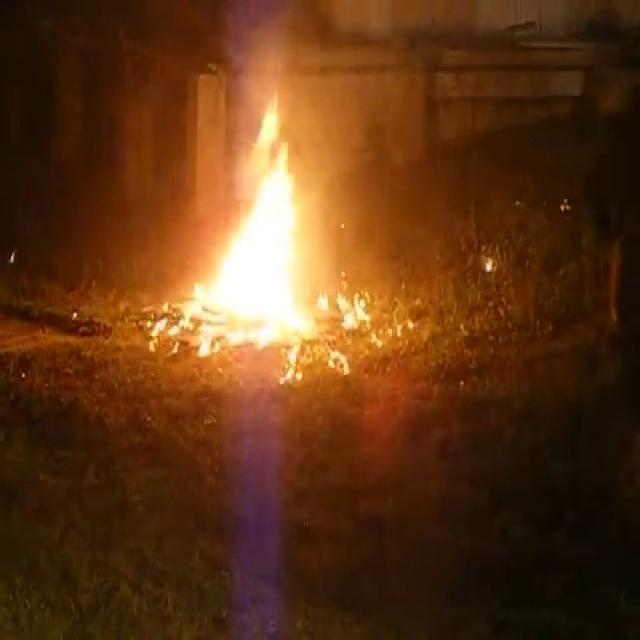Fire: (176, 74, 331, 352)
